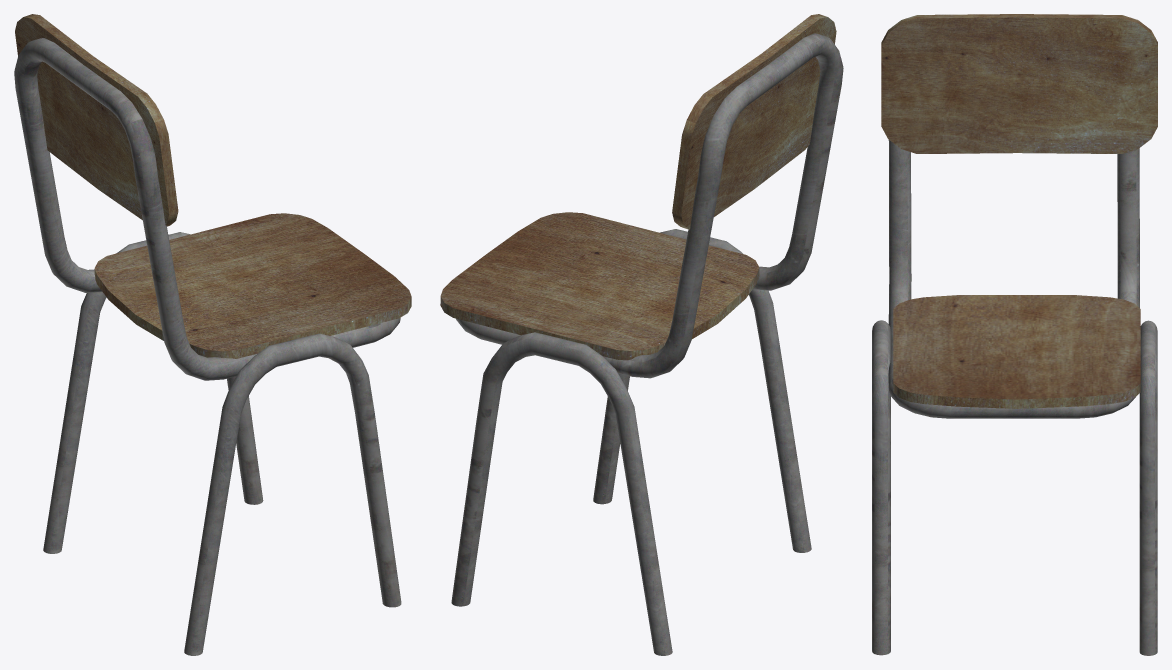
The model's file is Chair.fbx.
The picture shows the model from 3 angles, left to right: view 1: azimuth 30°, elevation 25°; view 2: azimuth 150°, elevation 25°; view 3: azimuth 270°, elevation 25°; orthographic projection. The views are drawn at different scales.
Parts seen in each view (by area): view 1: polySurface19; view 2: polySurface19; view 3: polySurface19.
Boxes of the visible parts, x1=… form: polySurface19: x1=14, y1=14, x2=411, y2=655; polySurface19: x1=440, y1=14, x2=843, y2=655; polySurface19: x1=872, y1=14, x2=1157, y2=655.
Bounding box in the file's own units: 11.18 × 20.09 × 9.87.
